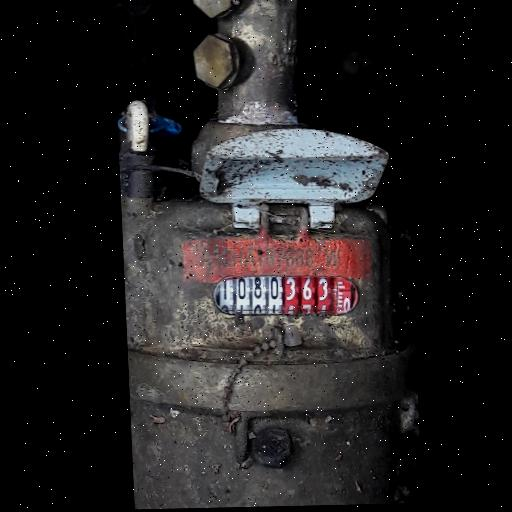0: (235, 276, 252, 314), (267, 276, 284, 314)
1: (218, 278, 235, 314)
3: (281, 275, 300, 315), (316, 275, 333, 315)
6: (298, 275, 317, 314)
8: (251, 276, 268, 315)
9: (334, 277, 353, 314)
border_water_meter_number: (212, 272, 361, 318)
